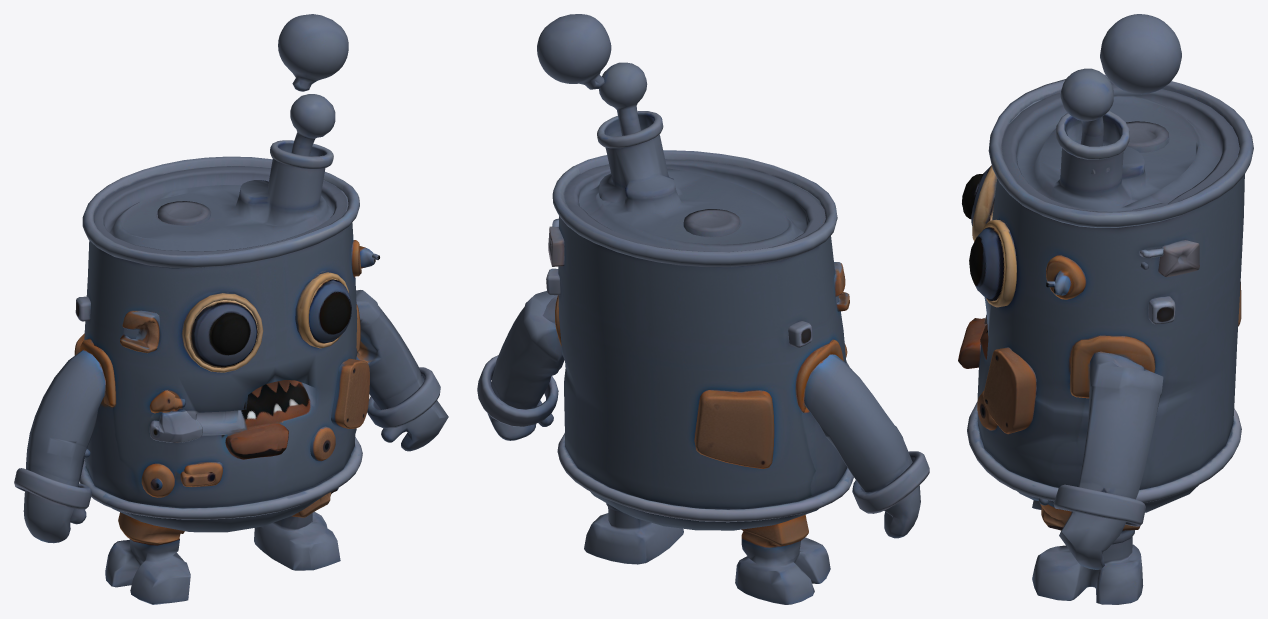
The model's file is tripo_convert_71295a3d-0507-4fac-a8a4-8e8660fd667b.fbx.
The picture shows the model from 3 angles, left to right: view 1: azimuth 30°, elevation 25°; view 2: azimuth 150°, elevation 25°; view 3: azimuth 270°, elevation 25°; orthographic projection. The views are drawn at different scales.
Visible parts, largest first — view 1: tripo_node_71295a3d; view 2: tripo_node_71295a3d; view 3: tripo_node_71295a3d.
Part boxes in pixels (x1,y1,x2,y2): tripo_node_71295a3d: (14, 14, 448, 604); tripo_node_71295a3d: (477, 14, 929, 604); tripo_node_71295a3d: (958, 14, 1253, 604).
Bounding box in the file's own units: 0.8628 × 0.9995 × 0.4565.
Materials: 1 (1 with a texture image).
